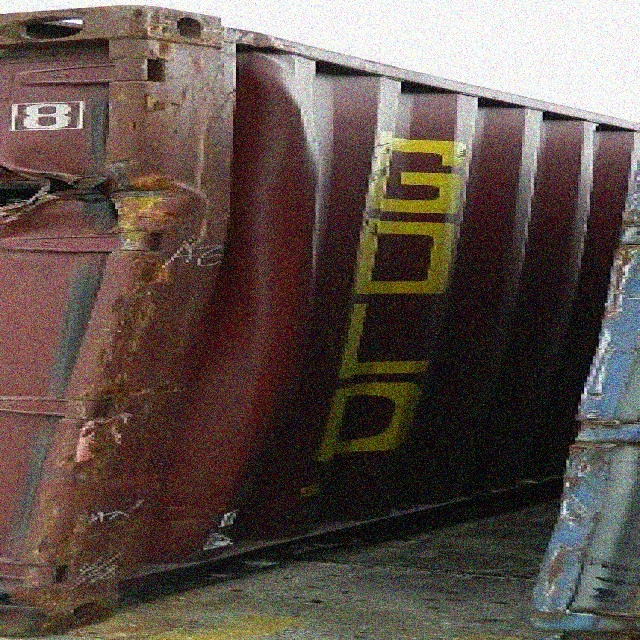Dent: (230, 34, 370, 384)
